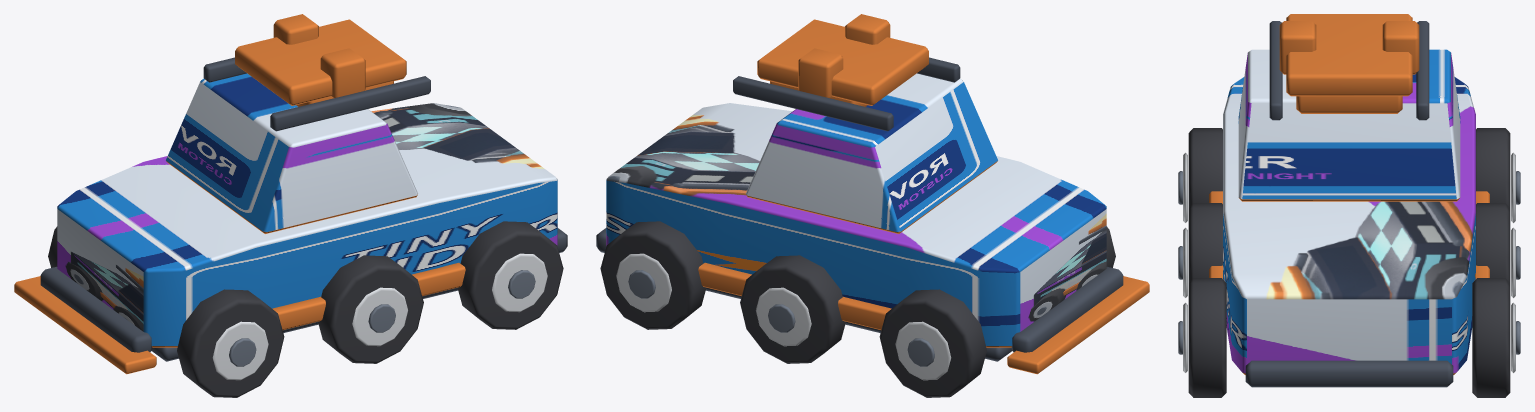
3 renders of one model, left to right at view 1: azimuth 30°, elevation 25°; view 2: azimuth 150°, elevation 25°; view 3: azimuth 270°, elevation 25°, orthographic. The views are drawn at different scales.
Parts seen in each view (by area): view 1: FF-04_connected_shell, FF-04_cabin, utility load, Tire, Tire.002, Tire.004, custom chin, utility rail, front bumper, custom side guard, Rim.002, Rim (+8 smaller); view 2: FF-04_connected_shell, FF-04_cabin, utility load, Tire.001, Tire.003, Tire.005, custom chin, utility rail.001, front bumper, custom side guard.001, Rim.003, Rim.001 (+8 smaller); view 3: FF-04_connected_shell, FF-04_cabin, utility load, rear bumper, Tire.004, Tire.005, Tire, Tire.001, Tire.002, Tire.003, custom equipment, science sensor (+11 smaller).
Part boxes in pixels (x1,y1,x2,y2): FF-04_connected_shell: [57, 103, 557, 347]; FF-04_cabin: [166, 73, 417, 233]; utility load: [235, 19, 406, 105]; Tire: [177, 289, 284, 397]; Tire.002: [318, 255, 423, 363]; Tire.004: [457, 221, 563, 329]; custom chin: [14, 276, 156, 374]; utility rail: [270, 76, 430, 131]; front bumper: [40, 266, 152, 352]; custom side guard: [272, 262, 465, 329]; Rim.002: [352, 287, 407, 346]; Rim: [212, 321, 268, 380]; FF-04_connected_shell: [606, 103, 1106, 347]; FF-04_cabin: [746, 73, 997, 233]; utility load: [757, 19, 928, 105]; Tire.001: [879, 289, 986, 397]; Tire.003: [740, 255, 845, 363]; Tire.005: [600, 221, 706, 329]; custom chin: [1007, 276, 1149, 374]; utility rail.001: [733, 76, 893, 131]; front bumper: [1011, 266, 1123, 352]; custom side guard.001: [698, 262, 891, 329]; Rim.003: [756, 287, 811, 346]; Rim.001: [895, 321, 951, 380]; FF-04_connected_shell: [1223, 77, 1475, 374]; FF-04_cabin: [1238, 49, 1460, 201]; utility load: [1286, 14, 1412, 96]; rear bumper: [1245, 360, 1453, 387]; Tire.004: [1188, 278, 1226, 397]; Tire.005: [1472, 278, 1510, 397]; Tire: [1188, 128, 1222, 207]; Tire.001: [1476, 128, 1510, 207]; Tire.002: [1188, 203, 1222, 282]; Tire.003: [1476, 203, 1510, 282]; custom equipment: [1296, 96, 1402, 113]; science sensor: [1279, 21, 1316, 74].
Bounding box in the file's own units: 392 × 223 × 233.
